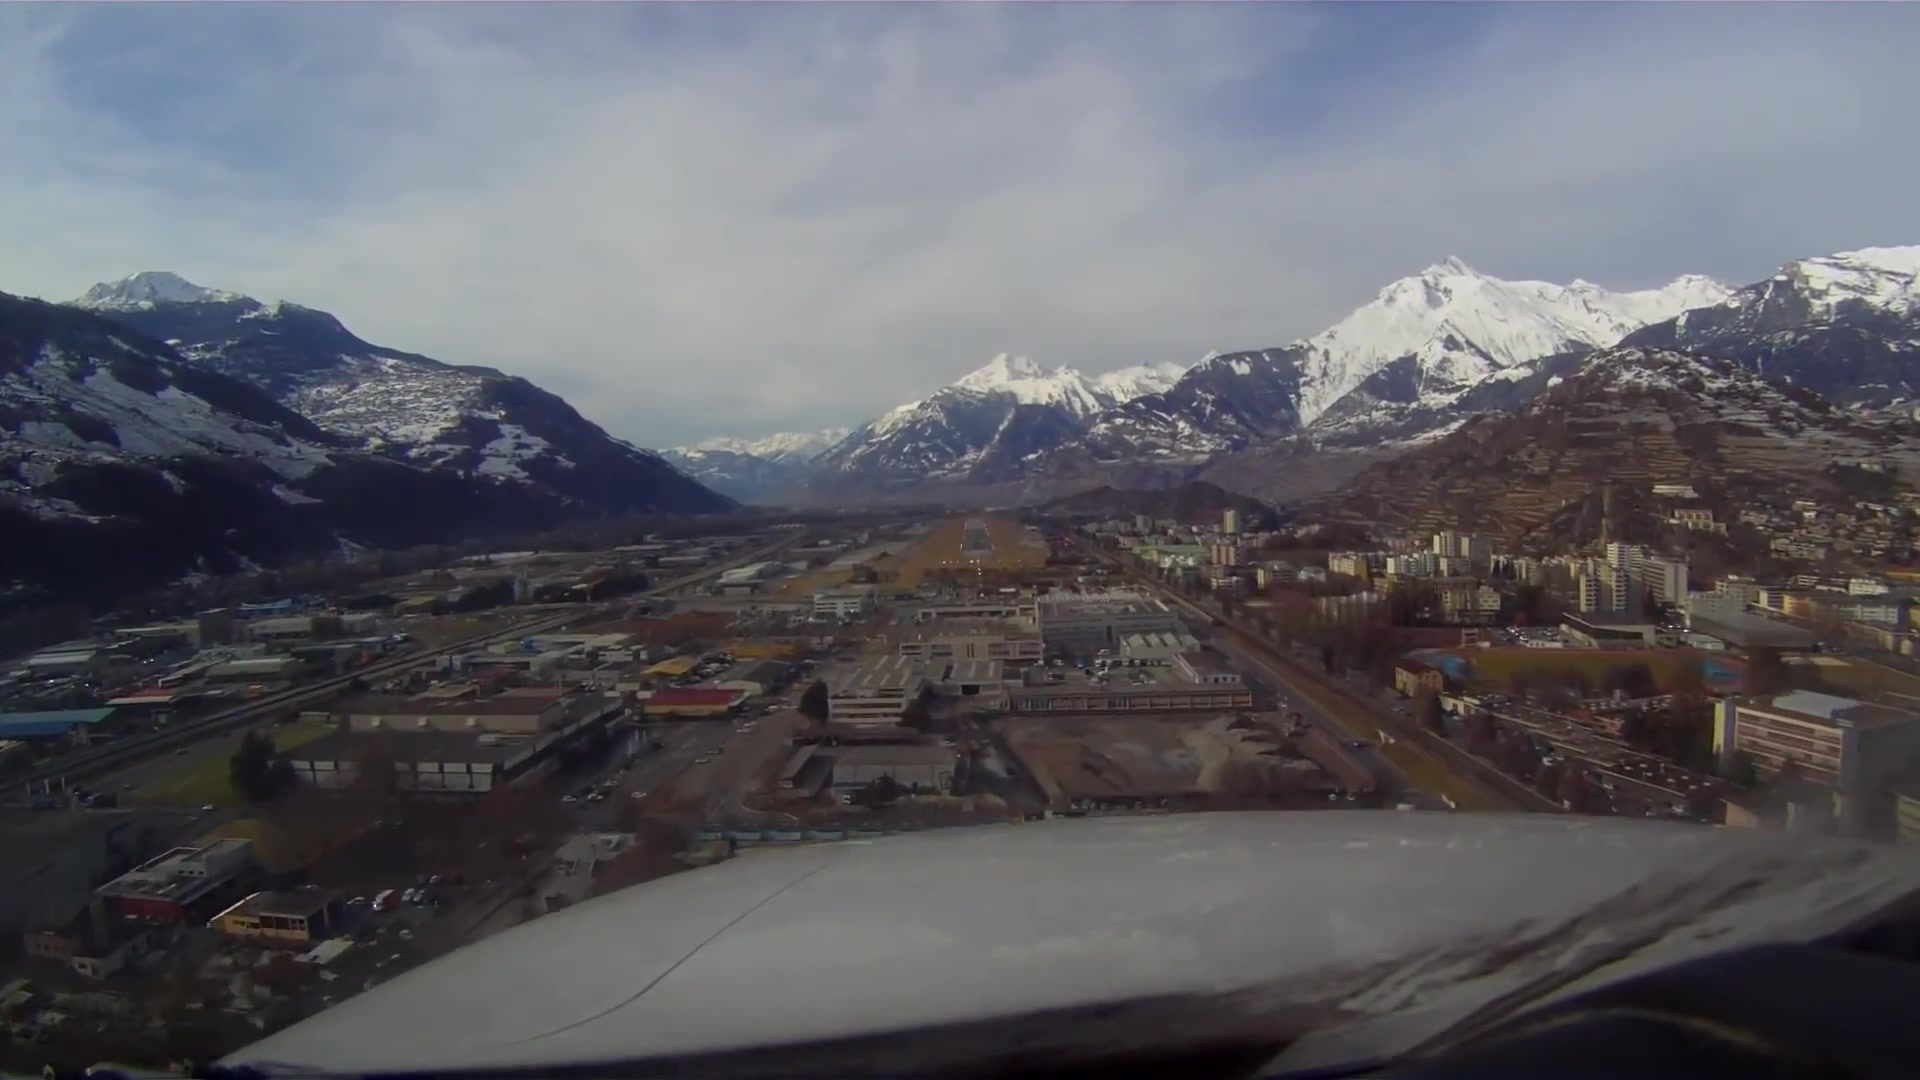runway: (956, 517, 996, 558)
